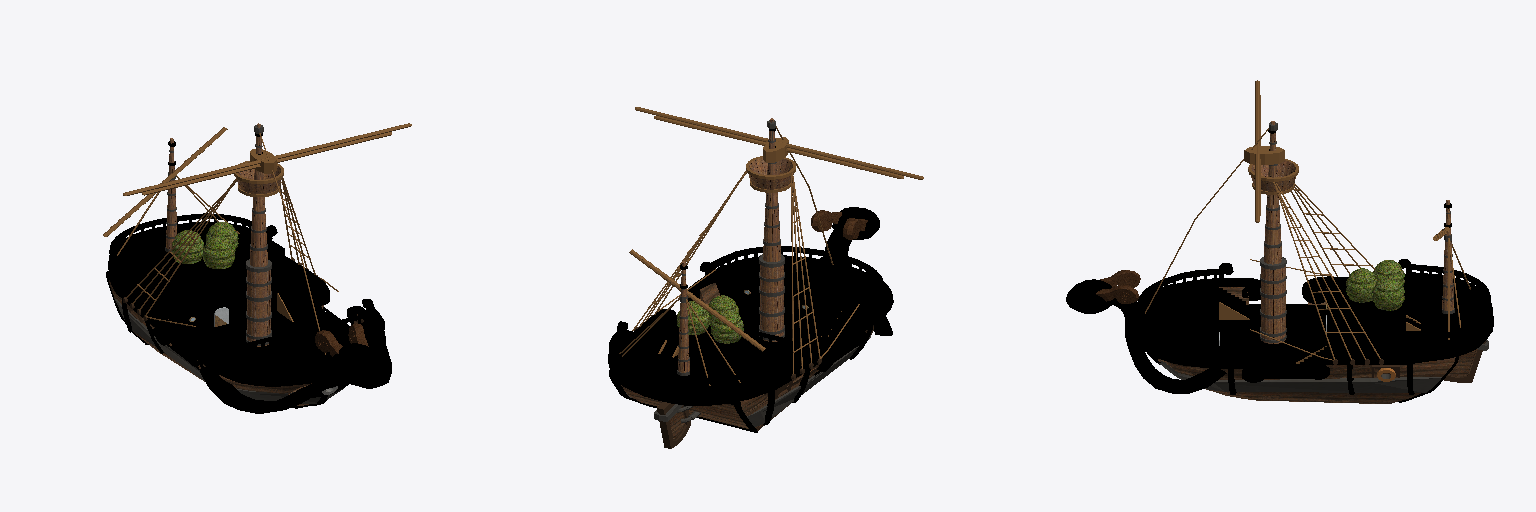
3 renders of one model, left to right at view 1: azimuth 30°, elevation 25°; view 2: azimuth 150°, elevation 25°; view 3: azimuth 270°, elevation 25°, orthographic.
Parts seen in each view (by area): view 1: polySurface1025polySurface1391polySurface1393; view 2: polySurface1025polySurface1391polySurface1393; view 3: polySurface1025polySurface1391polySurface1393.
Part boxes in pixels (x1,y1,x2,y2): polySurface1025polySurface1391polySurface1393: (103,123,411,413); polySurface1025polySurface1391polySurface1393: (608,107,923,448); polySurface1025polySurface1391polySurface1393: (1066,80,1493,403).
Size of the model in its own units: 31.62 by 28.12 by 40.61.
Materials: 26 (13 with a texture image).